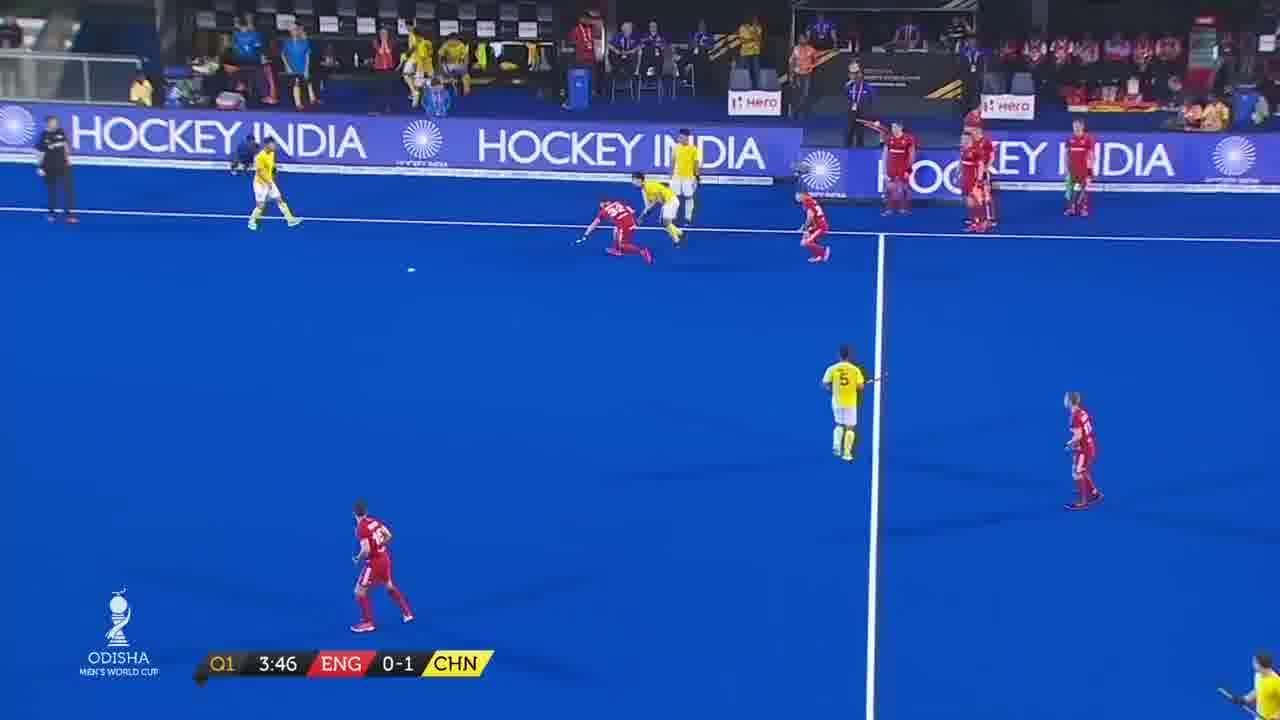ball: (406, 258, 422, 284)
